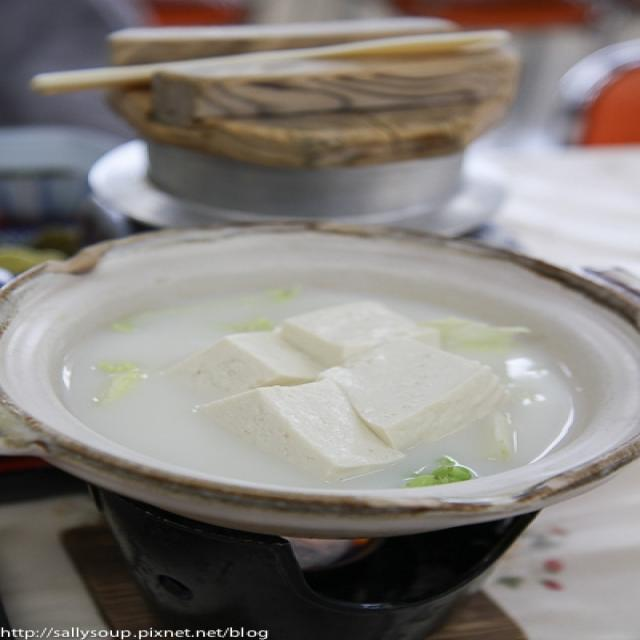豆腐料理: (8, 214, 624, 534)
